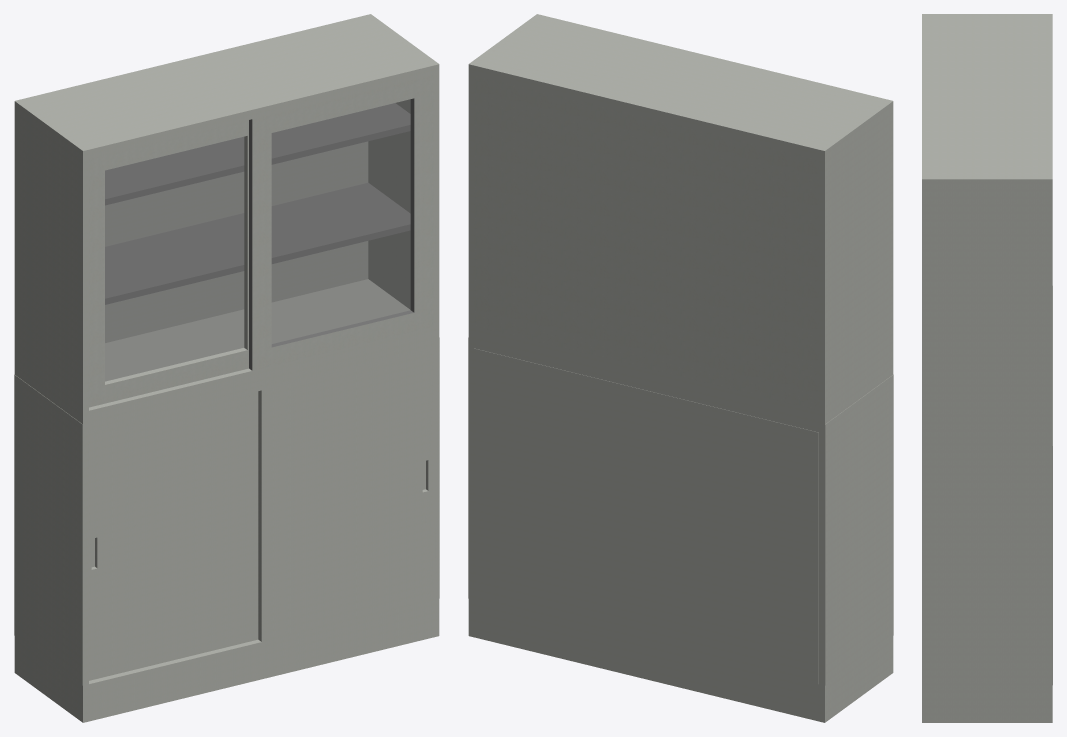
The model's file is shelfDouble.gltf.
The picture shows the model from 3 angles, left to right: view 1: azimuth 30°, elevation 25°; view 2: azimuth 150°, elevation 25°; view 3: azimuth 270°, elevation 25°; orthographic projection. The views are drawn at different scales.
Visible parts, largest first — view 1: UpperShelf, GlassShelfDoor (×2), ShelfDoor, ShelfDoor#1, Structure, TopShelf (×2); view 2: UpperShelf, LowerShelf, Structure; view 3: UpperShelf, Structure, LowerShelf.
Boxes of the visible parts, <box> form: UpperShelf: <box>14,14,439,424</box>; GlassShelfDoor (×2): <box>89,75,433,407</box>; ShelfDoor: <box>258,348,434,641</box>; ShelfDoor#1: <box>89,391,258,680</box>; Structure: <box>14,337,439,722</box>; TopShelf (×2): <box>105,103,410,304</box>; UpperShelf: <box>468,14,893,424</box>; LowerShelf: <box>473,348,818,684</box>; Structure: <box>468,337,893,722</box>; UpperShelf: <box>922,14,1052,439</box>; Structure: <box>922,439,1052,722</box>; LowerShelf: <box>1052,286,1052,684</box>.
Size of the model in its own units: 1.2 by 1.84 by 0.401.
3 materials, 1 textured.
